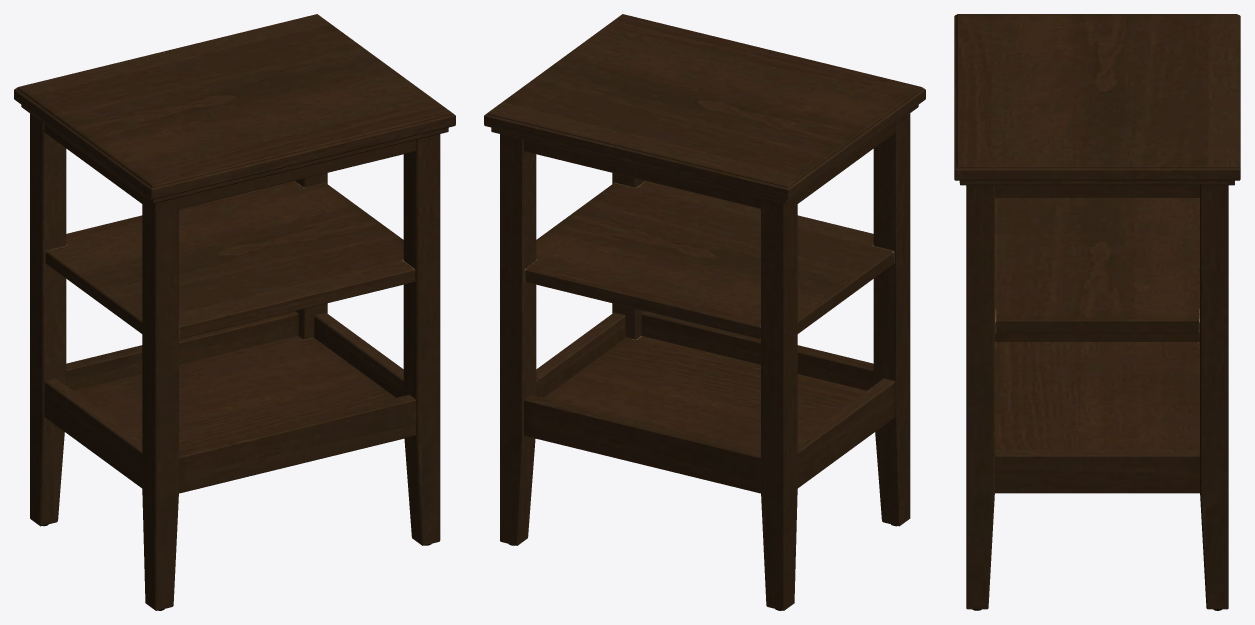
3 renders of one model, left to right at view 1: azimuth 30°, elevation 25°; view 2: azimuth 150°, elevation 25°; view 3: azimuth 270°, elevation 25°, orthographic. The views are drawn at different scales.
Parts seen in each view (by area): view 1: model; view 2: model; view 3: model.
Part boxes in pixels (x1,y1,x2,y2): model: (14,14,455,610); model: (484,14,925,610); model: (954,14,1240,610).
Size of the model in its own units: 0.46 by 0.626 by 0.36.
Materials: 1 (1 with a texture image).
